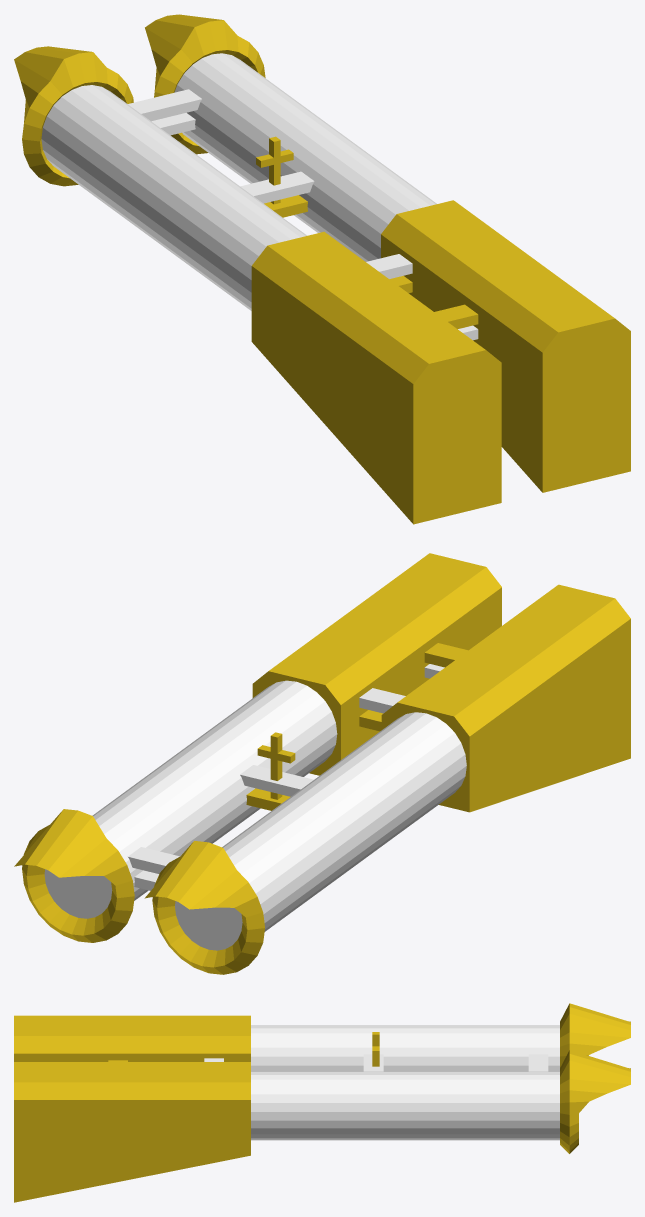
File: shotGun.fbx
The picture shows the model from 3 angles, top to bottom: view 1: azimuth 30°, elevation 25°; view 2: azimuth 150°, elevation 25°; view 3: azimuth 270°, elevation 25°; orthographic projection. The views are drawn at different scales.
Visible parts, largest first — view 1: Cylinder.001, Cube.008, Cube.007, Torus.001, Torus.002, Cube.002; view 2: Cylinder.001, Cube.008, Cube.007, Torus.001, Torus.002, Cube.002, Cube.009; view 3: Cylinder.001, Cube.007, Cube.008, Torus.002, Torus.001.
Part boxes in pixels (x1,y1,x2,y2): Cylinder.001: (41, 53, 478, 340); Cube.008: (251, 231, 501, 524); Cube.007: (381, 200, 630, 492); Torus.001: (14, 46, 133, 186); Torus.002: (145, 14, 265, 154); Cube.002: (256, 136, 293, 204); Cylinder.001: (44, 664, 466, 950); Cube.008: (381, 584, 630, 812); Cube.007: (252, 553, 501, 775); Torus.001: (144, 841, 264, 974); Torus.002: (14, 809, 134, 942); Cube.002: (257, 732, 295, 799); Cube.009: (424, 643, 467, 667); Cylinder.001: (204, 1025, 559, 1140); Cube.007: (14, 1062, 250, 1202); Cube.008: (14, 1015, 250, 1061); Torus.002: (560, 1050, 630, 1153); Torus.001: (560, 1003, 630, 1067).
Bounding box in the file's own units: 17.83 × 12.76 × 53.33.
